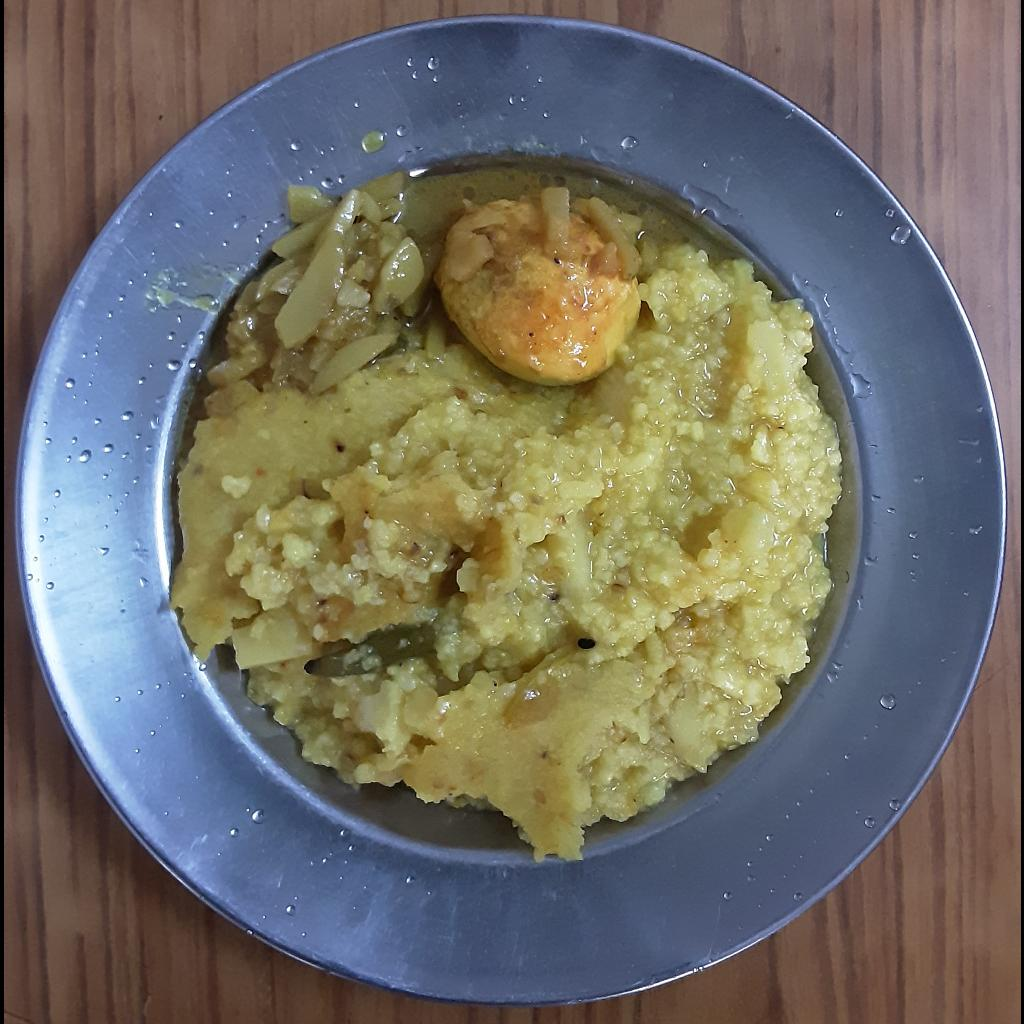egg-boiled: (428, 187, 643, 383)
khichuri: (171, 230, 841, 864)
potato: (200, 161, 455, 394)
